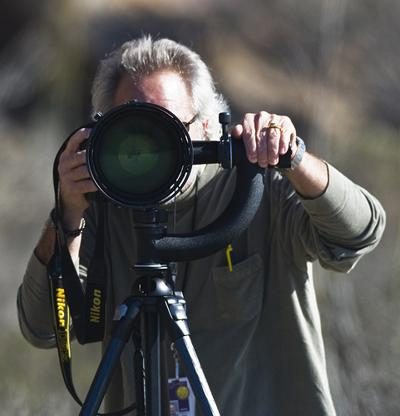person: (17, 39, 388, 414)
